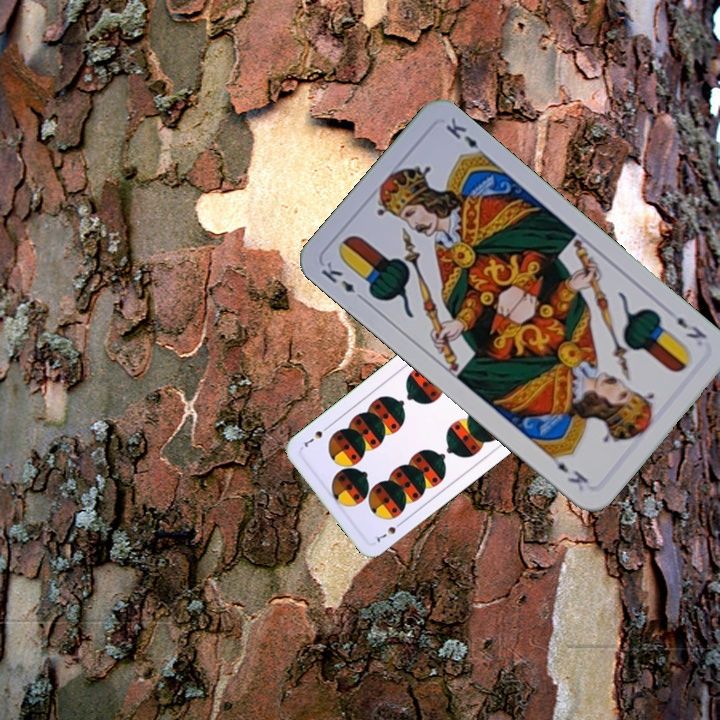EK: (317, 257, 368, 305), (672, 312, 710, 342)
S7: (370, 517, 406, 545)
